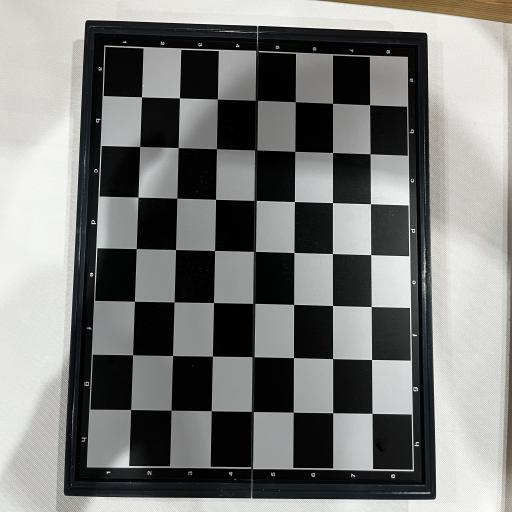Board: (64, 20, 436, 500)
